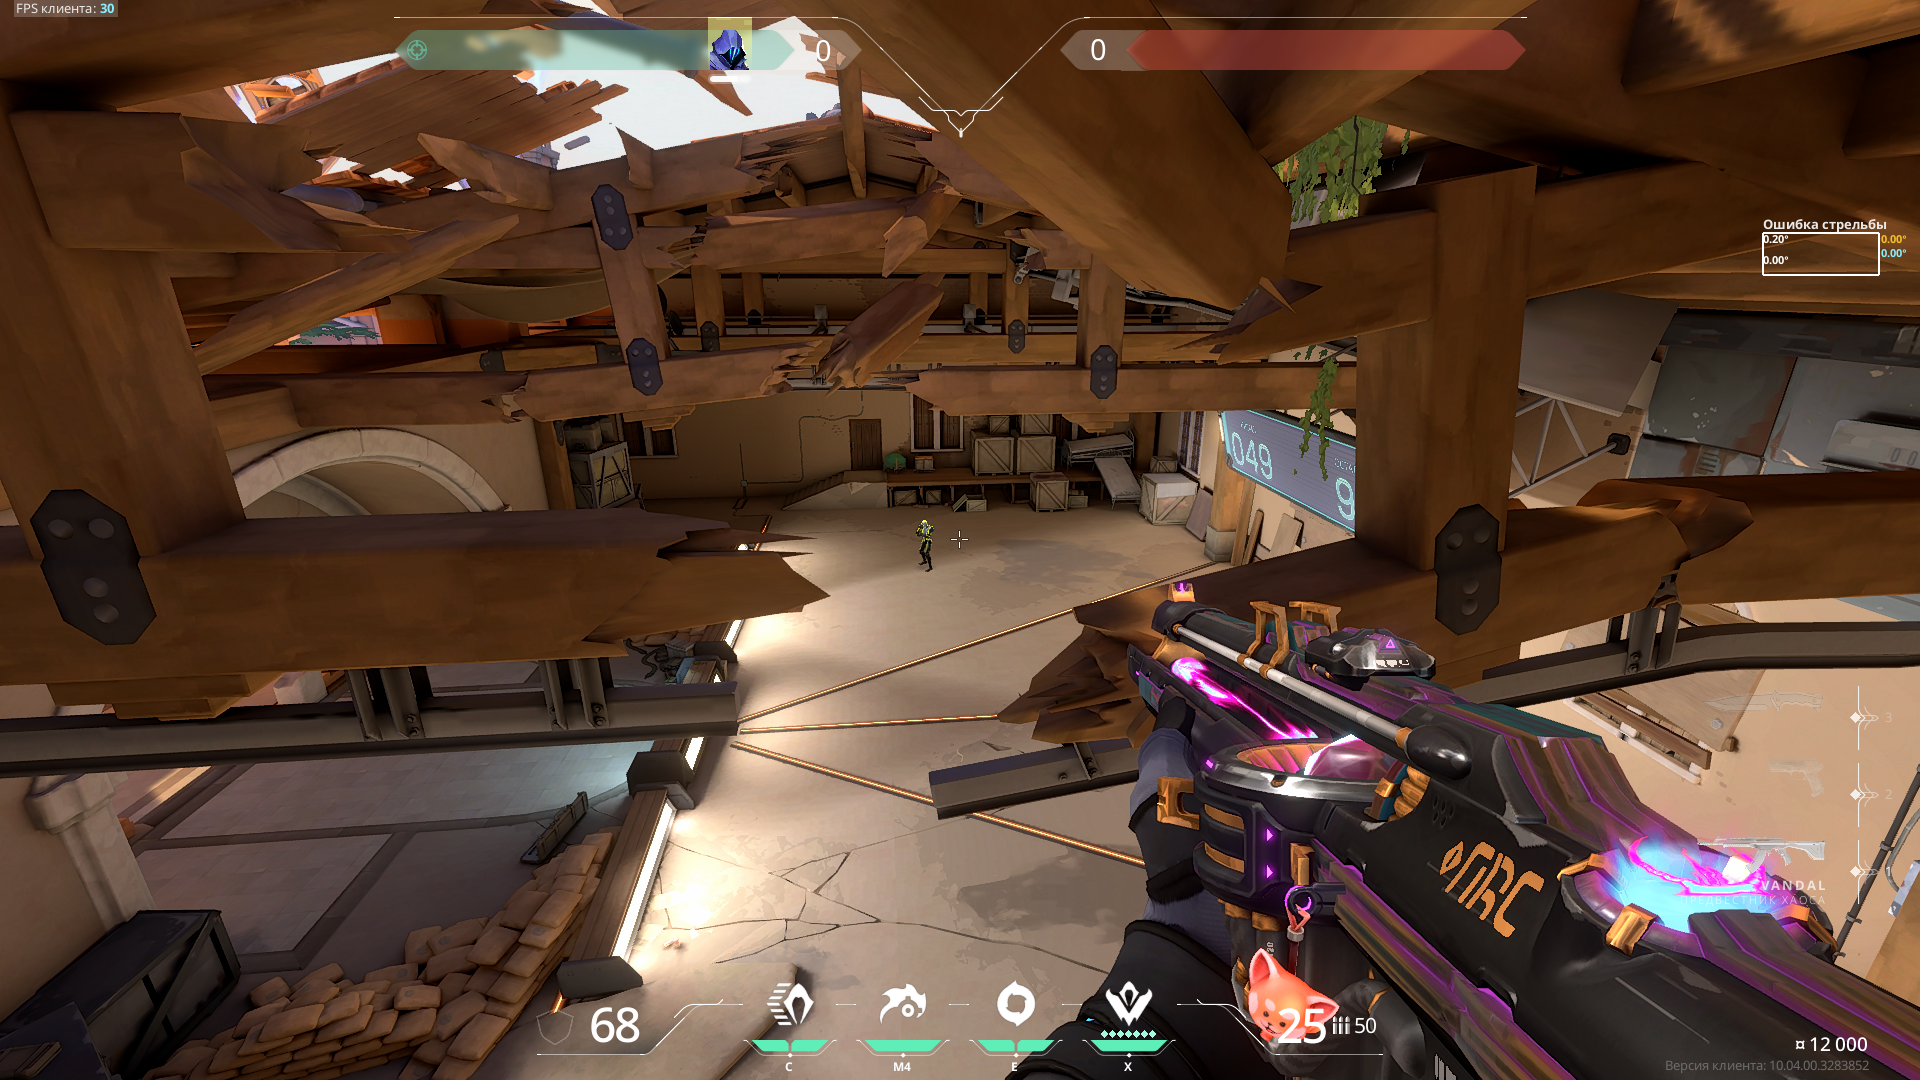head: (922, 520, 927, 527)
